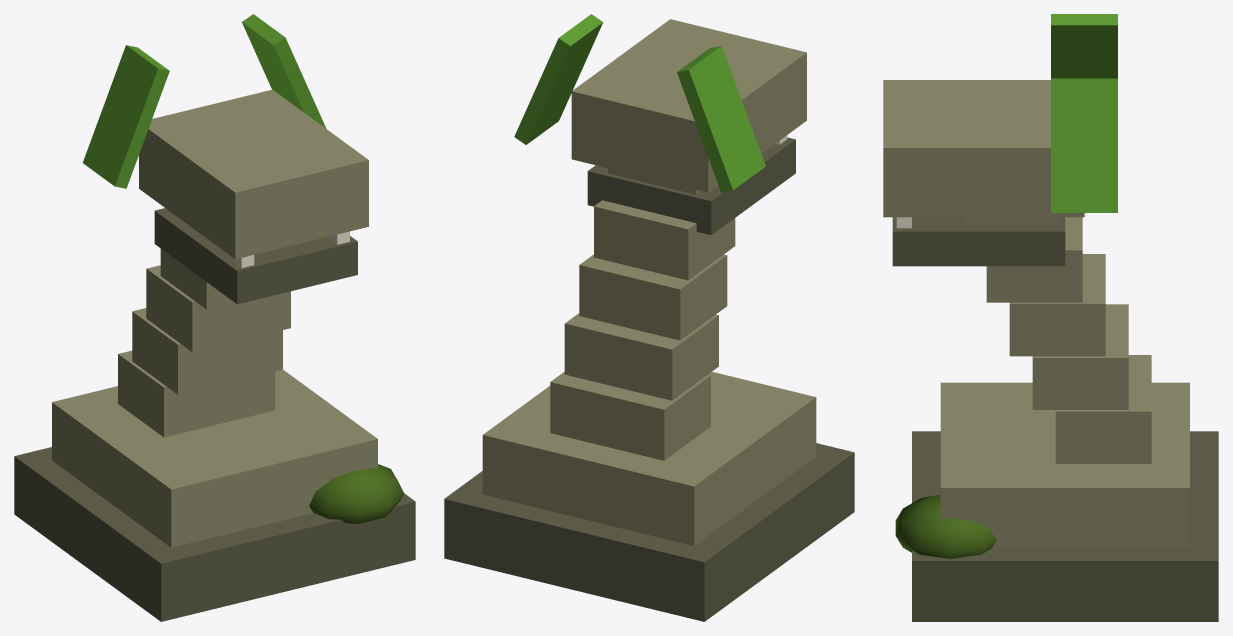
The model's file is jg_serpent_statue.glb.
3 views of the same model, side by side, from view 1: azimuth 30°, elevation 25°; view 2: azimuth 150°, elevation 25°; view 3: azimuth 270°, elevation 25° (orthographic). The views are drawn at different scales.
Visible parts, largest first — view 1: jg_serpent_statue; view 2: jg_serpent_statue; view 3: jg_serpent_statue.
Boxes of the visible parts, left/top/right/bottom form: jg_serpent_statue: left=14, top=14, right=415, bottom=621; jg_serpent_statue: left=444, top=14, right=854, bottom=621; jg_serpent_statue: left=883, top=14, right=1218, bottom=621.
Size of the model in its own units: 1.6 by 2.94 by 1.75.
